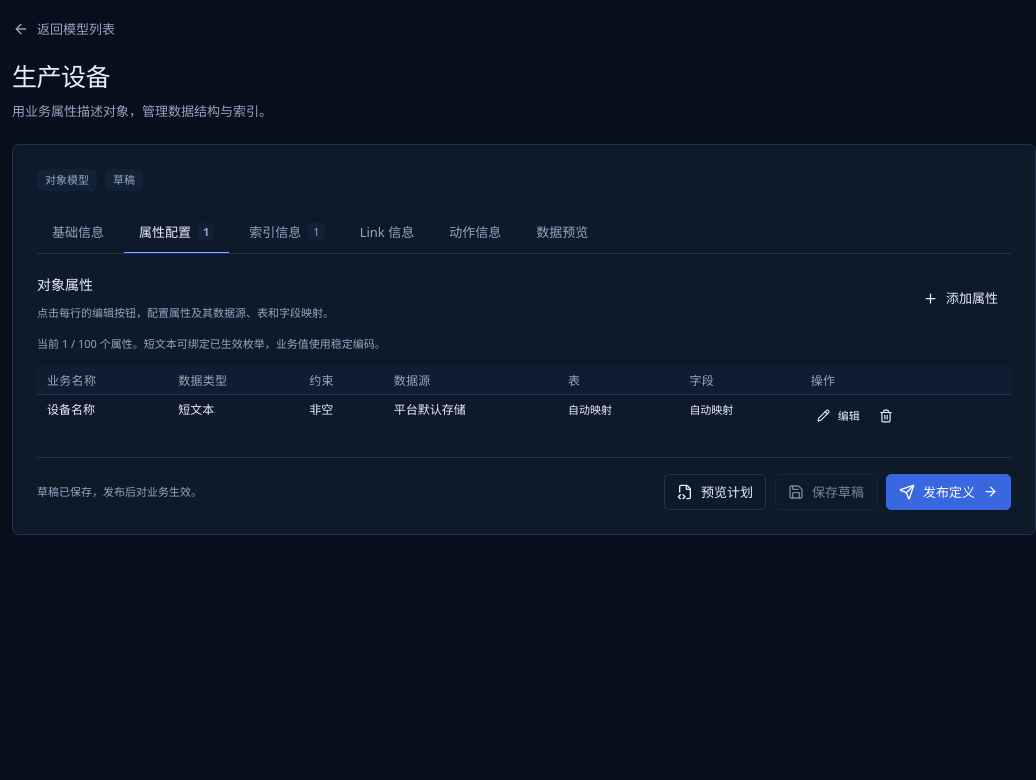
Scenario: 对象编辑页签 › 关联定义有待发布草稿时仍显示当前关联，并区分两种状态
What coordinates should you click on to do the following:
click the tab "Link 信息"
I would click on:
 (387, 232)
Its box is x1=345 y1=211 x2=429 y2=254.
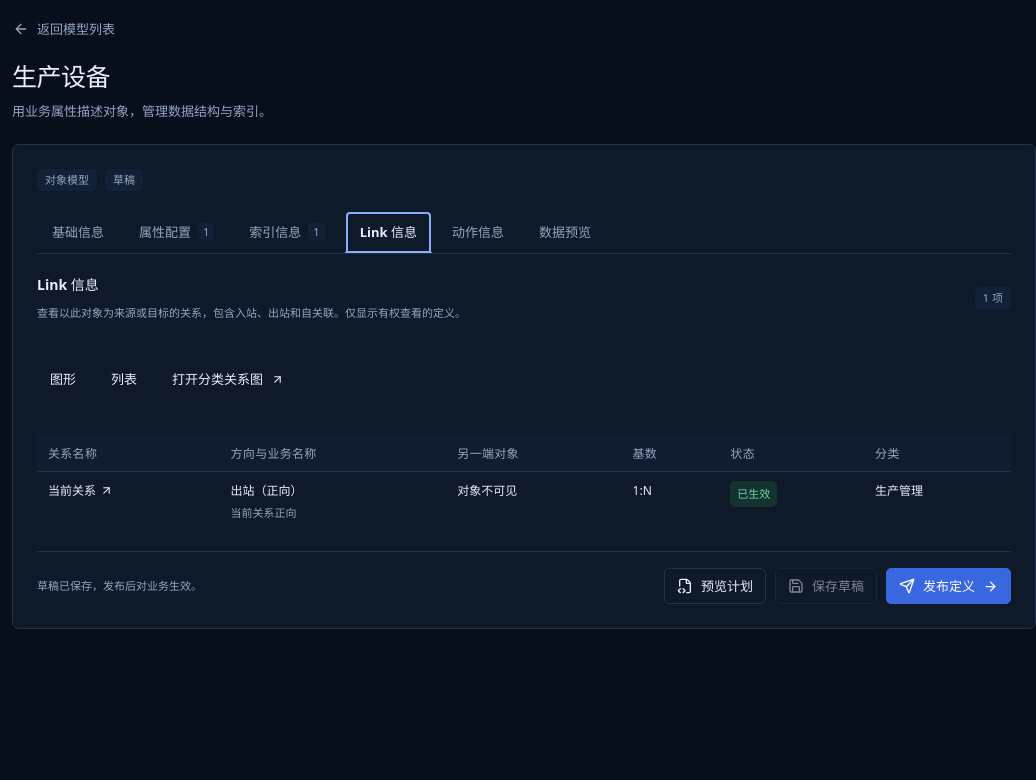
Result: the link "当前关系" is shown at x1=48 y1=481 x2=113 y2=500
Result: the panel "Link 信息" shows "已生效" at x1=737 y1=486 x2=770 y2=501
What coordinates should you click on to do the following:
click the tab "动作信息"
I would click on:
 (478, 232)
Its box is x1=437 y1=211 x2=519 y2=254.
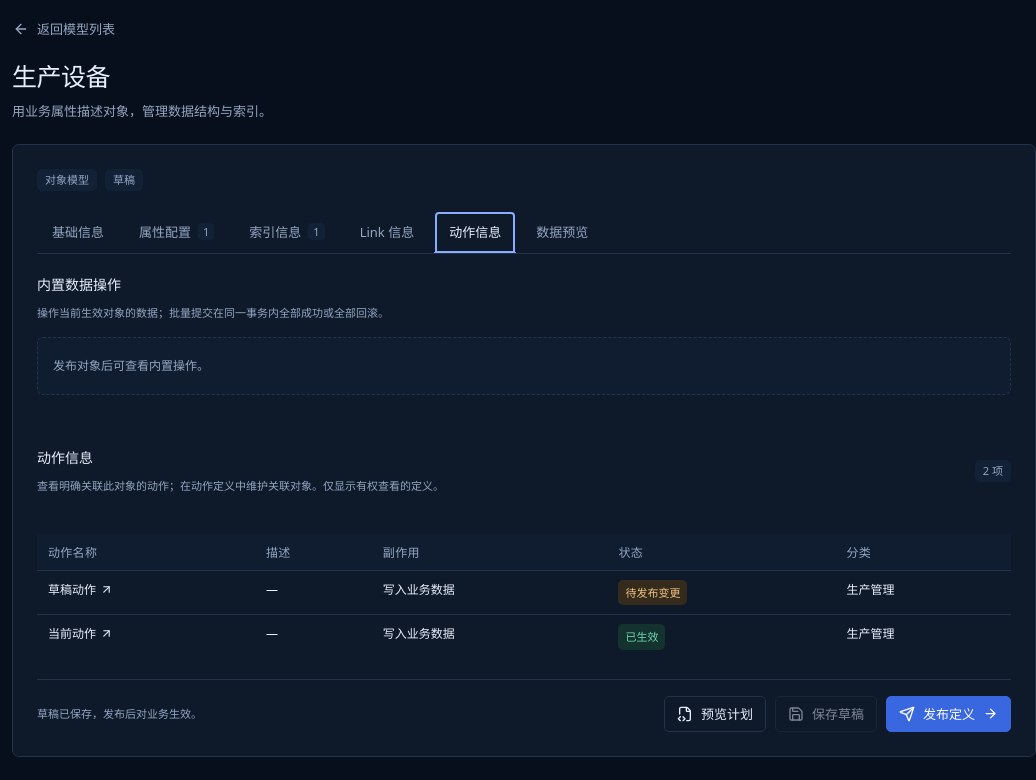
Result: the link "当前动作" is shown at x1=48 y1=624 x2=113 y2=644
Result: the link "草稿动作" is shown at x1=48 y1=580 x2=113 y2=599
Result: the panel "动作信息" shows "已生效" at x1=626 y1=629 x2=658 y2=644
